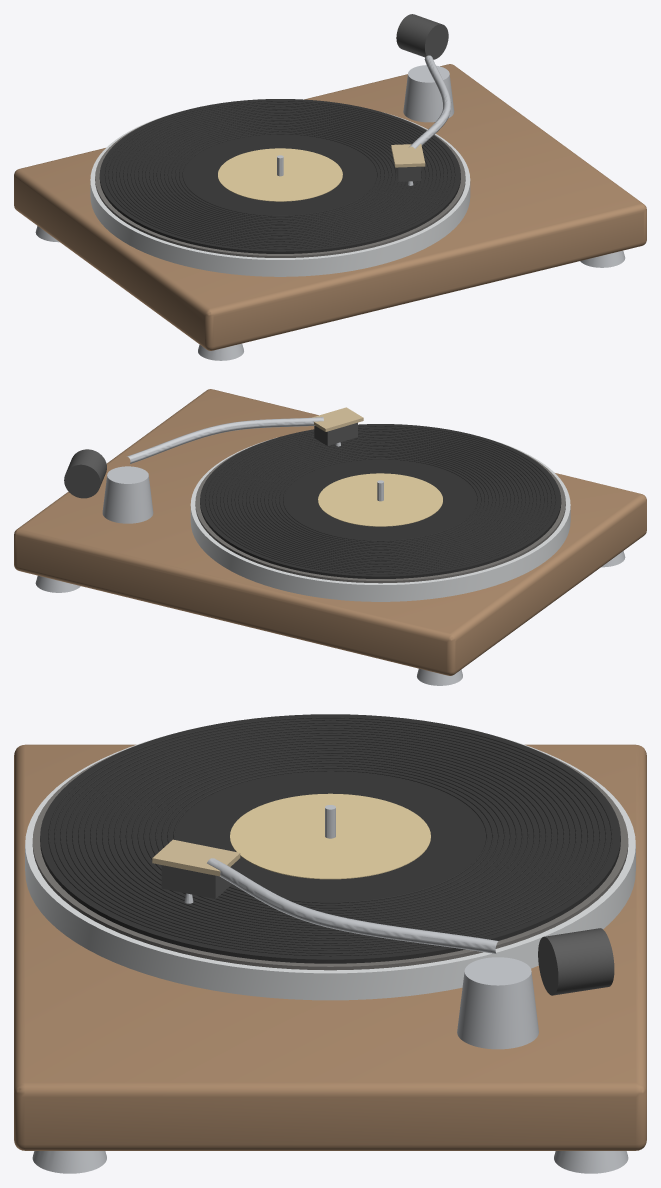
File: turntable.glb
The picture shows the model from 3 angles, top to bottom: view 1: azimuth 30°, elevation 25°; view 2: azimuth 150°, elevation 25°; view 3: azimuth 270°, elevation 25°; orthographic projection. The views are drawn at different scales.
Visible parts, largest first — view 1: plinth, record, platter, tonearm, cartridge; view 2: plinth, record, platter, tonearm, cartridge; view 3: plinth, record, platter, tonearm, cartridge.
Part boxes in pixels (x1,y1,x2,y2): plinth: (14, 64, 646, 360); record: (99, 99, 460, 253); platter: (90, 112, 470, 276); tonearm: (396, 14, 454, 148); cartridge: (391, 144, 425, 185); plinth: (14, 389, 646, 685); record: (200, 424, 561, 578); platter: (190, 437, 570, 601); tonearm: (64, 417, 323, 523); cartridge: (312, 407, 363, 446); plinth: (14, 744, 646, 1173); record: (40, 714, 620, 963); platter: (25, 736, 635, 1000); tonearm: (207, 858, 614, 1049); cartridge: (152, 839, 240, 903).
Bounding box in the file's own units: 2.2 × 0.6099 × 1.7.
